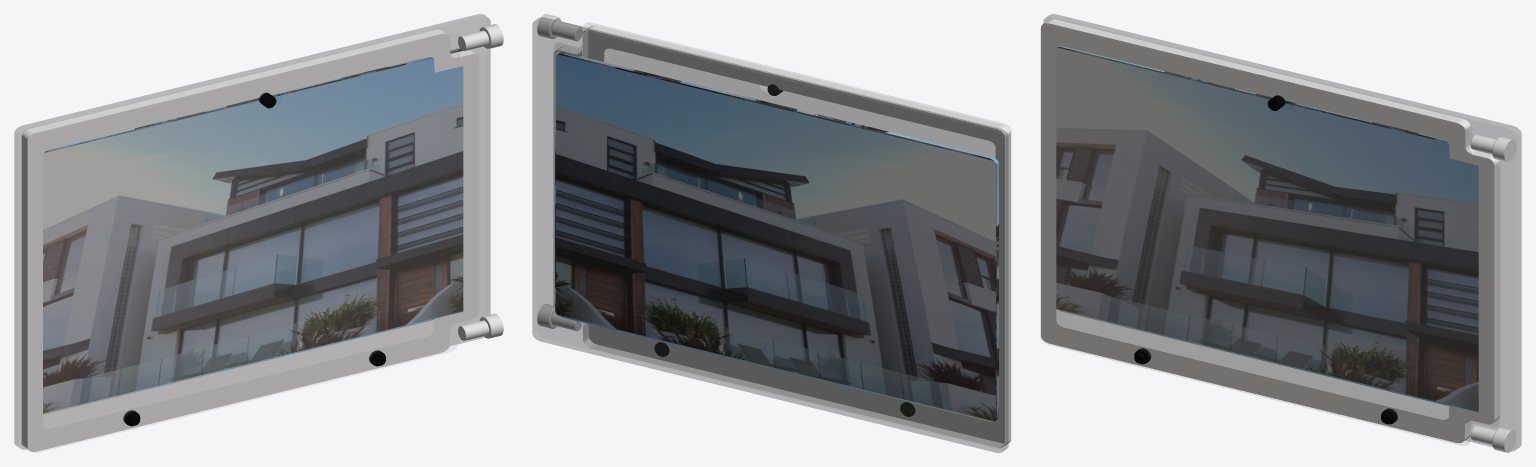
File: a3landsr8.glb
3 views of the same model, side by side, from view 1: azimuth 30°, elevation 25°; view 2: azimuth 150°, elevation 25°; view 3: azimuth 330°, elevation 25° (orthographic).
Visible parts, largest first — view 1: a4horzone; view 2: a4horzone; view 3: a4horzone.
Boxes of the visible parts, x1,y1,x2,y2 form: a4horzone: [14, 14, 503, 452]; a4horzone: [532, 14, 1011, 452]; a4horzone: [1040, 14, 1521, 452].
Bounding box in the file's own units: 0.2404 × 0.1562 × 0.0151.
Materials: 6 (1 with a texture image).
